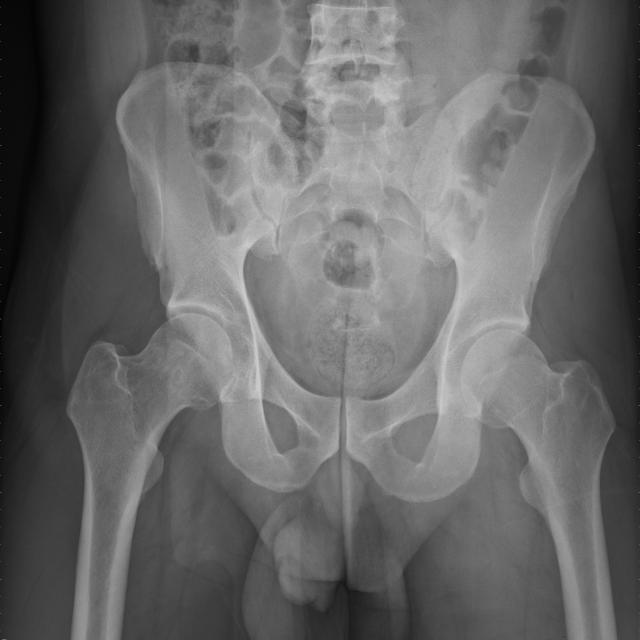normal-left: (463, 329, 616, 587)
normal-right: (66, 313, 235, 611)
